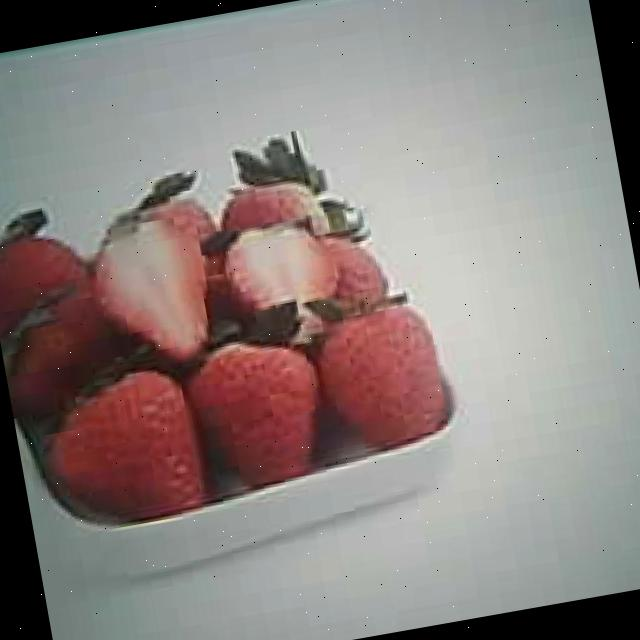strawberry: (32, 352, 205, 532), (182, 318, 328, 494), (304, 285, 450, 456)
